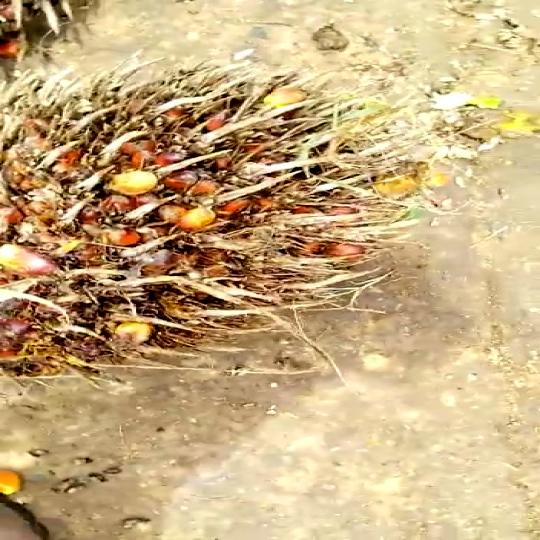terlalu masak: (0, 51, 411, 401)
